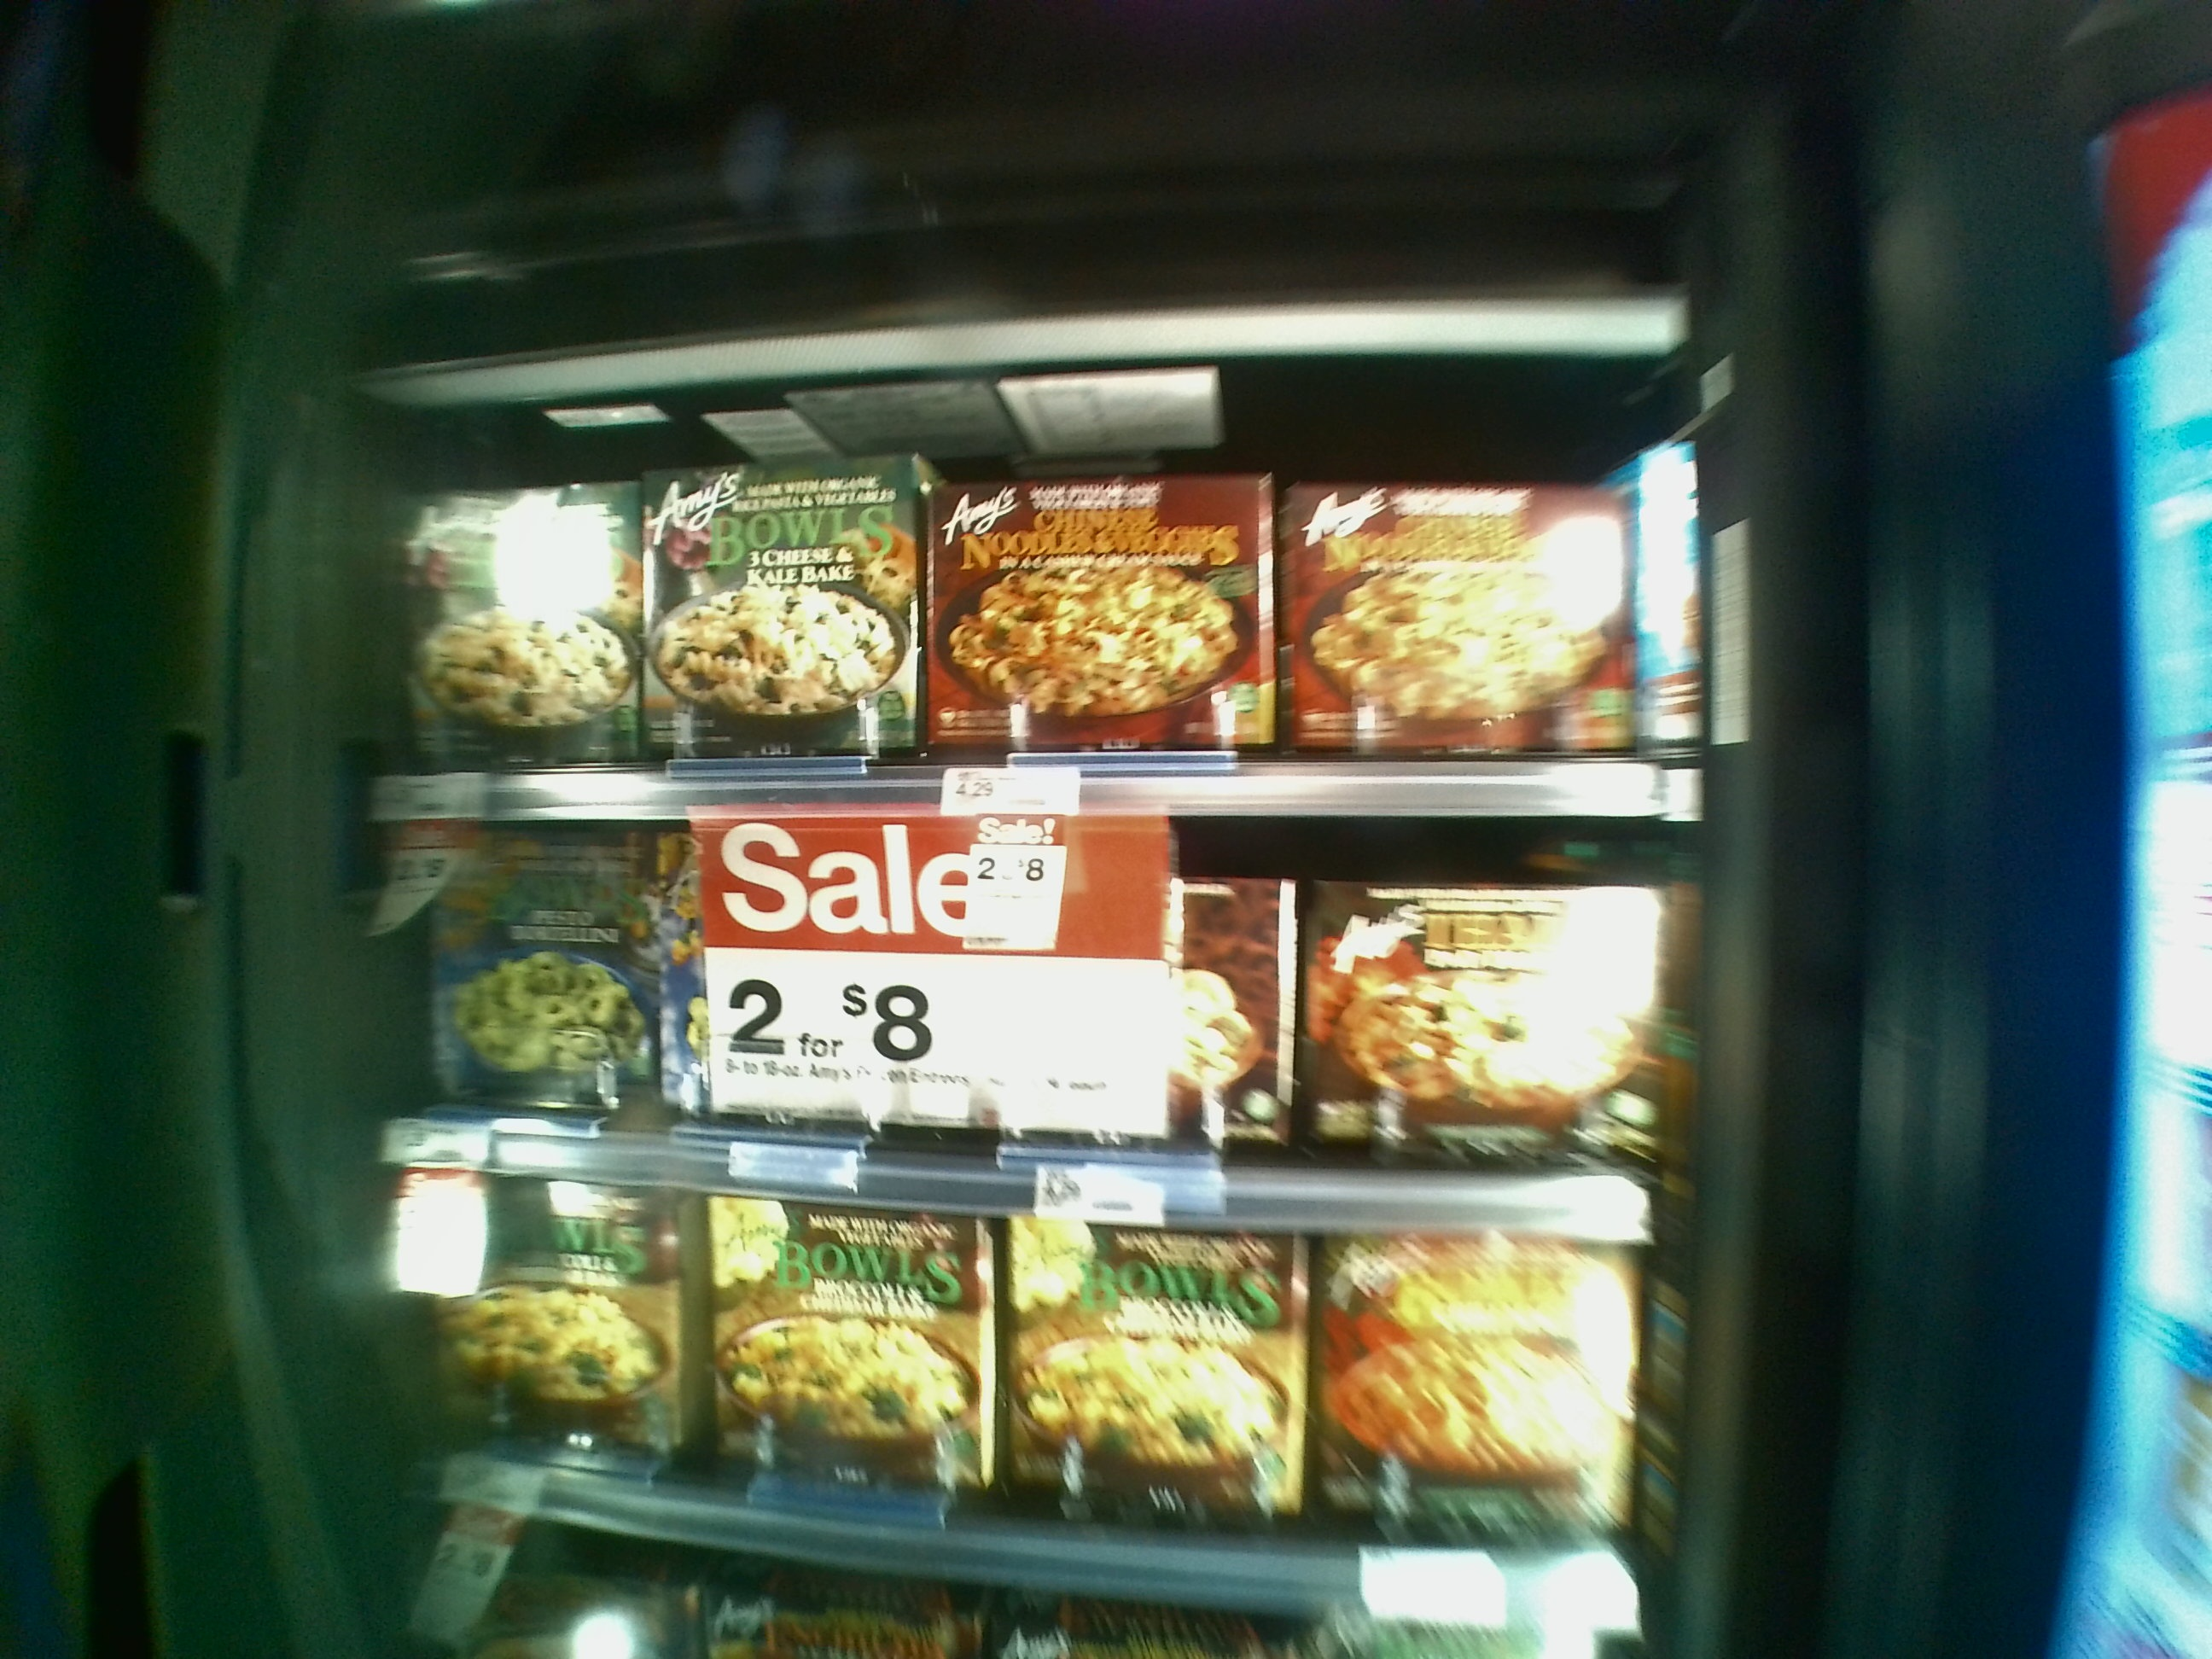shelf: (409, 1201, 1651, 1640), (354, 406, 1667, 821), (371, 831, 1658, 1239)
